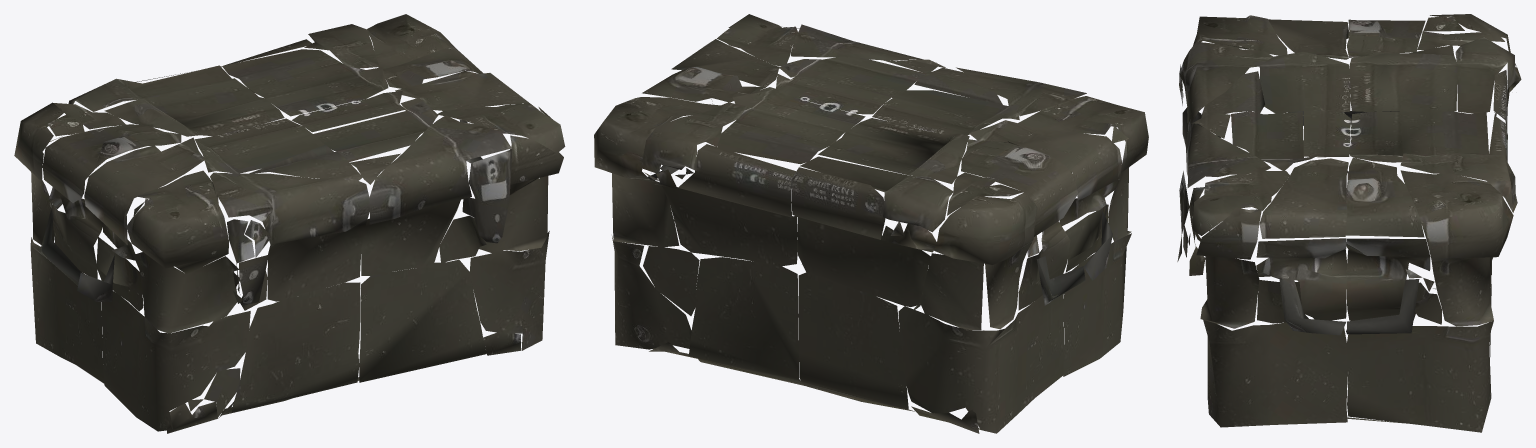
The model's file is prop_meridian_crate_LOD2.glb.
3 views of the same model, side by side, from view 1: azimuth 30°, elevation 25°; view 2: azimuth 150°, elevation 25°; view 3: azimuth 270°, elevation 25° (orthographic).
Parts seen in each view (by area): view 1: tripo_node_18f05e10-e405-4cf5-9c76-78acff66053a; view 2: tripo_node_18f05e10-e405-4cf5-9c76-78acff66053a; view 3: tripo_node_18f05e10-e405-4cf5-9c76-78acff66053a.
Boxes of the visible parts, x1,y1,x2,y2 form: tripo_node_18f05e10-e405-4cf5-9c76-78acff66053a: (14, 14, 565, 433); tripo_node_18f05e10-e405-4cf5-9c76-78acff66053a: (594, 14, 1148, 433); tripo_node_18f05e10-e405-4cf5-9c76-78acff66053a: (1177, 14, 1521, 432).
Bounding box in the file's own units: 0.9999 × 0.5279 × 0.6823.
1 material, 1 textured.
